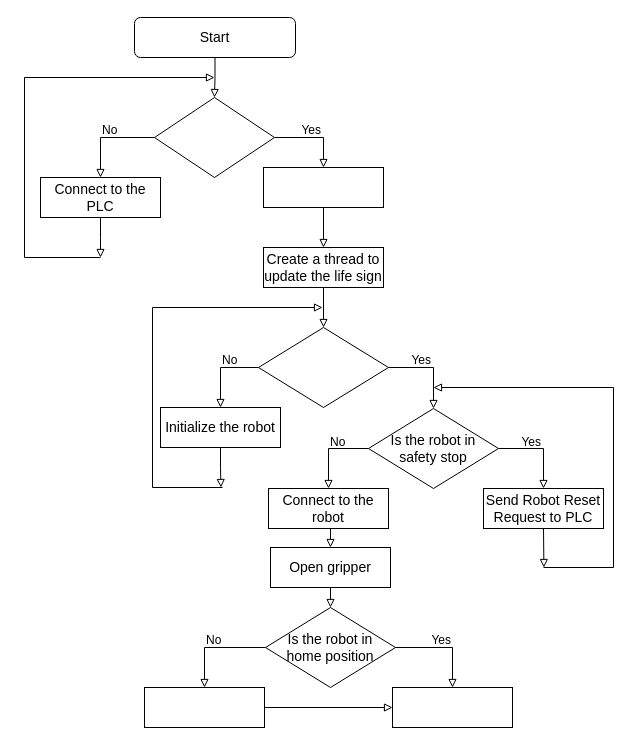
This 639x745 diagram has some shape labels left out. The shapes that lost their labels are listed below. From the top down, each one's box as (x1, y1, x2, y2) in pixels, then its label:
(154, 96, 274, 178): Is the PLC connected
(262, 166, 384, 208): Reset PLC variables
(258, 326, 388, 408): Is the robot initialized
(144, 686, 264, 728): Move to home position
(392, 686, 512, 728): Continue to Main
